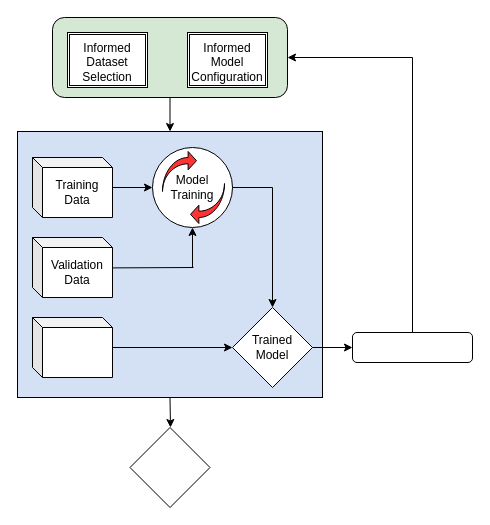
This 490x525 diagram has some shape labels left out. The shapes that lost their labels are listed below. From the top down, each one's box as (x1, y1, x2, y2) in pixels, then its label:
(32, 316, 112, 378): Test Data
(352, 332, 472, 362): Evaluation Results
(129, 426, 210, 508): Final Model
